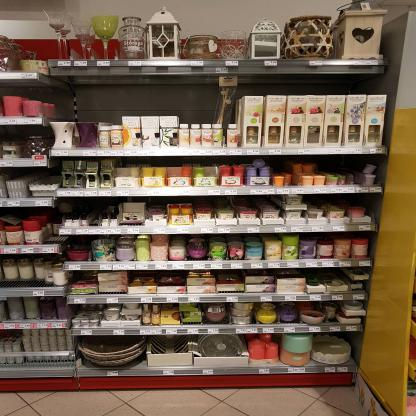Void: (55, 79, 118, 122), (249, 74, 383, 92), (128, 82, 172, 112), (182, 79, 210, 122), (310, 196, 371, 205), (60, 200, 100, 212), (323, 160, 357, 172), (274, 159, 288, 173)
